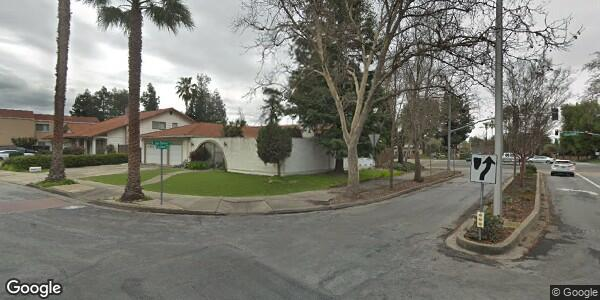Steel_Pole: (492, 1, 503, 215)
